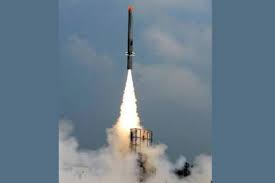ten_lua: (124, 4, 136, 72)
